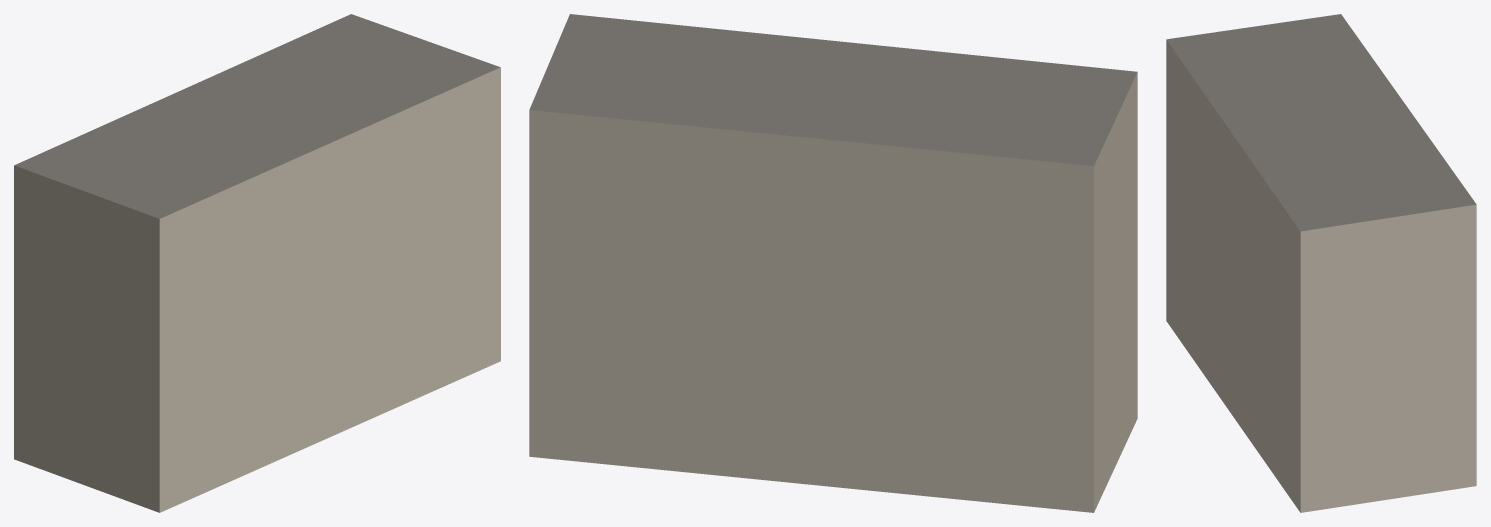
3 views of the same model, side by side, from view 1: azimuth 30°, elevation 25°; view 2: azimuth 150°, elevation 25°; view 3: azimuth 270°, elevation 25° (orthographic). The views are drawn at different scales.
Visible parts, largest first — view 1: HP-w1159141675; view 2: HP-w1159141675; view 3: HP-w1159141675.
Boxes of the visible parts, <box> form: HP-w1159141675: <box>14,14,500,512</box>; HP-w1159141675: <box>529,14,1137,512</box>; HP-w1159141675: <box>1166,14,1476,512</box>.
Bounding box in the file's own units: 29.82 × 18 × 17.99.
